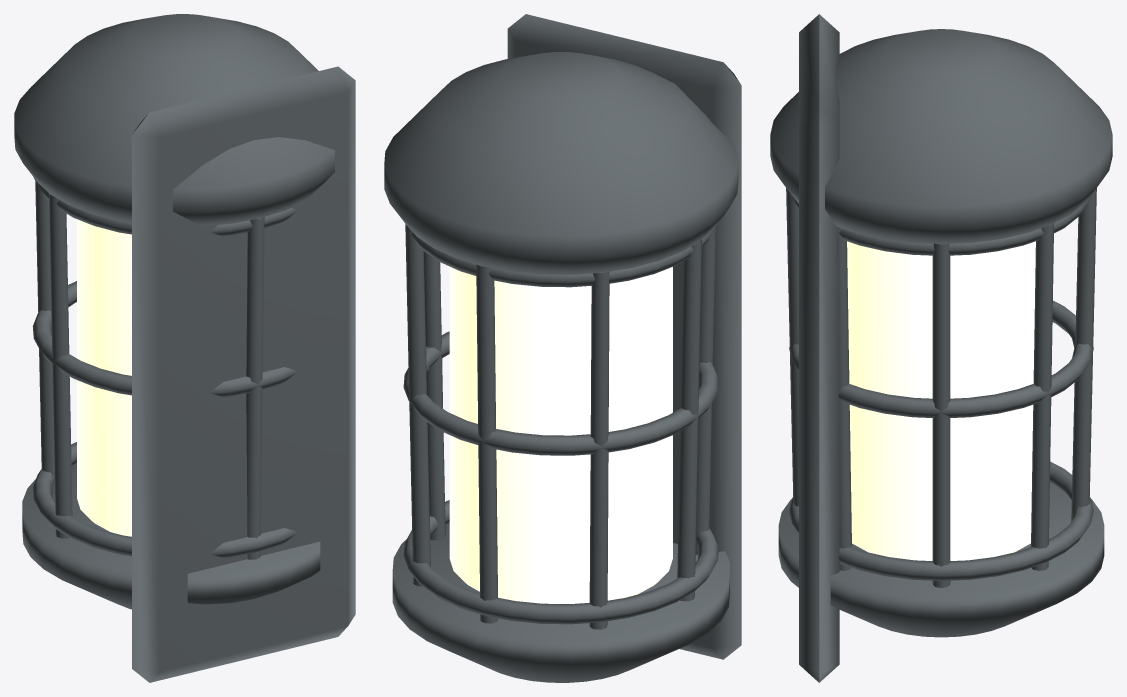
File: foundry-wall-lantern.glb
The picture shows the model from 3 angles, left to right: view 1: azimuth 30°, elevation 25°; view 2: azimuth 150°, elevation 25°; view 3: azimuth 270°, elevation 25°; orthographic projection. The views are drawn at different scales.
Visible parts, largest first — view 1: WallLantern_Foundry_Iron, Frosted wall lamp; view 2: WallLantern_Foundry_Iron, Frosted wall lamp; view 3: WallLantern_Foundry_Iron, Frosted wall lamp.
Boxes of the visible parts, x1,y1,x2,y2 form: WallLantern_Foundry_Iron: (14,14,355,682); Frosted wall lamp: (77,219,131,536); WallLantern_Foundry_Iron: (384,14,741,682); Frosted wall lamp: (449,267,672,603); WallLantern_Foundry_Iron: (770,14,1112,682); Frosted wall lamp: (847,241,1035,560).
Size of the model in its own units: 0.42 by 0.79 by 0.42.
